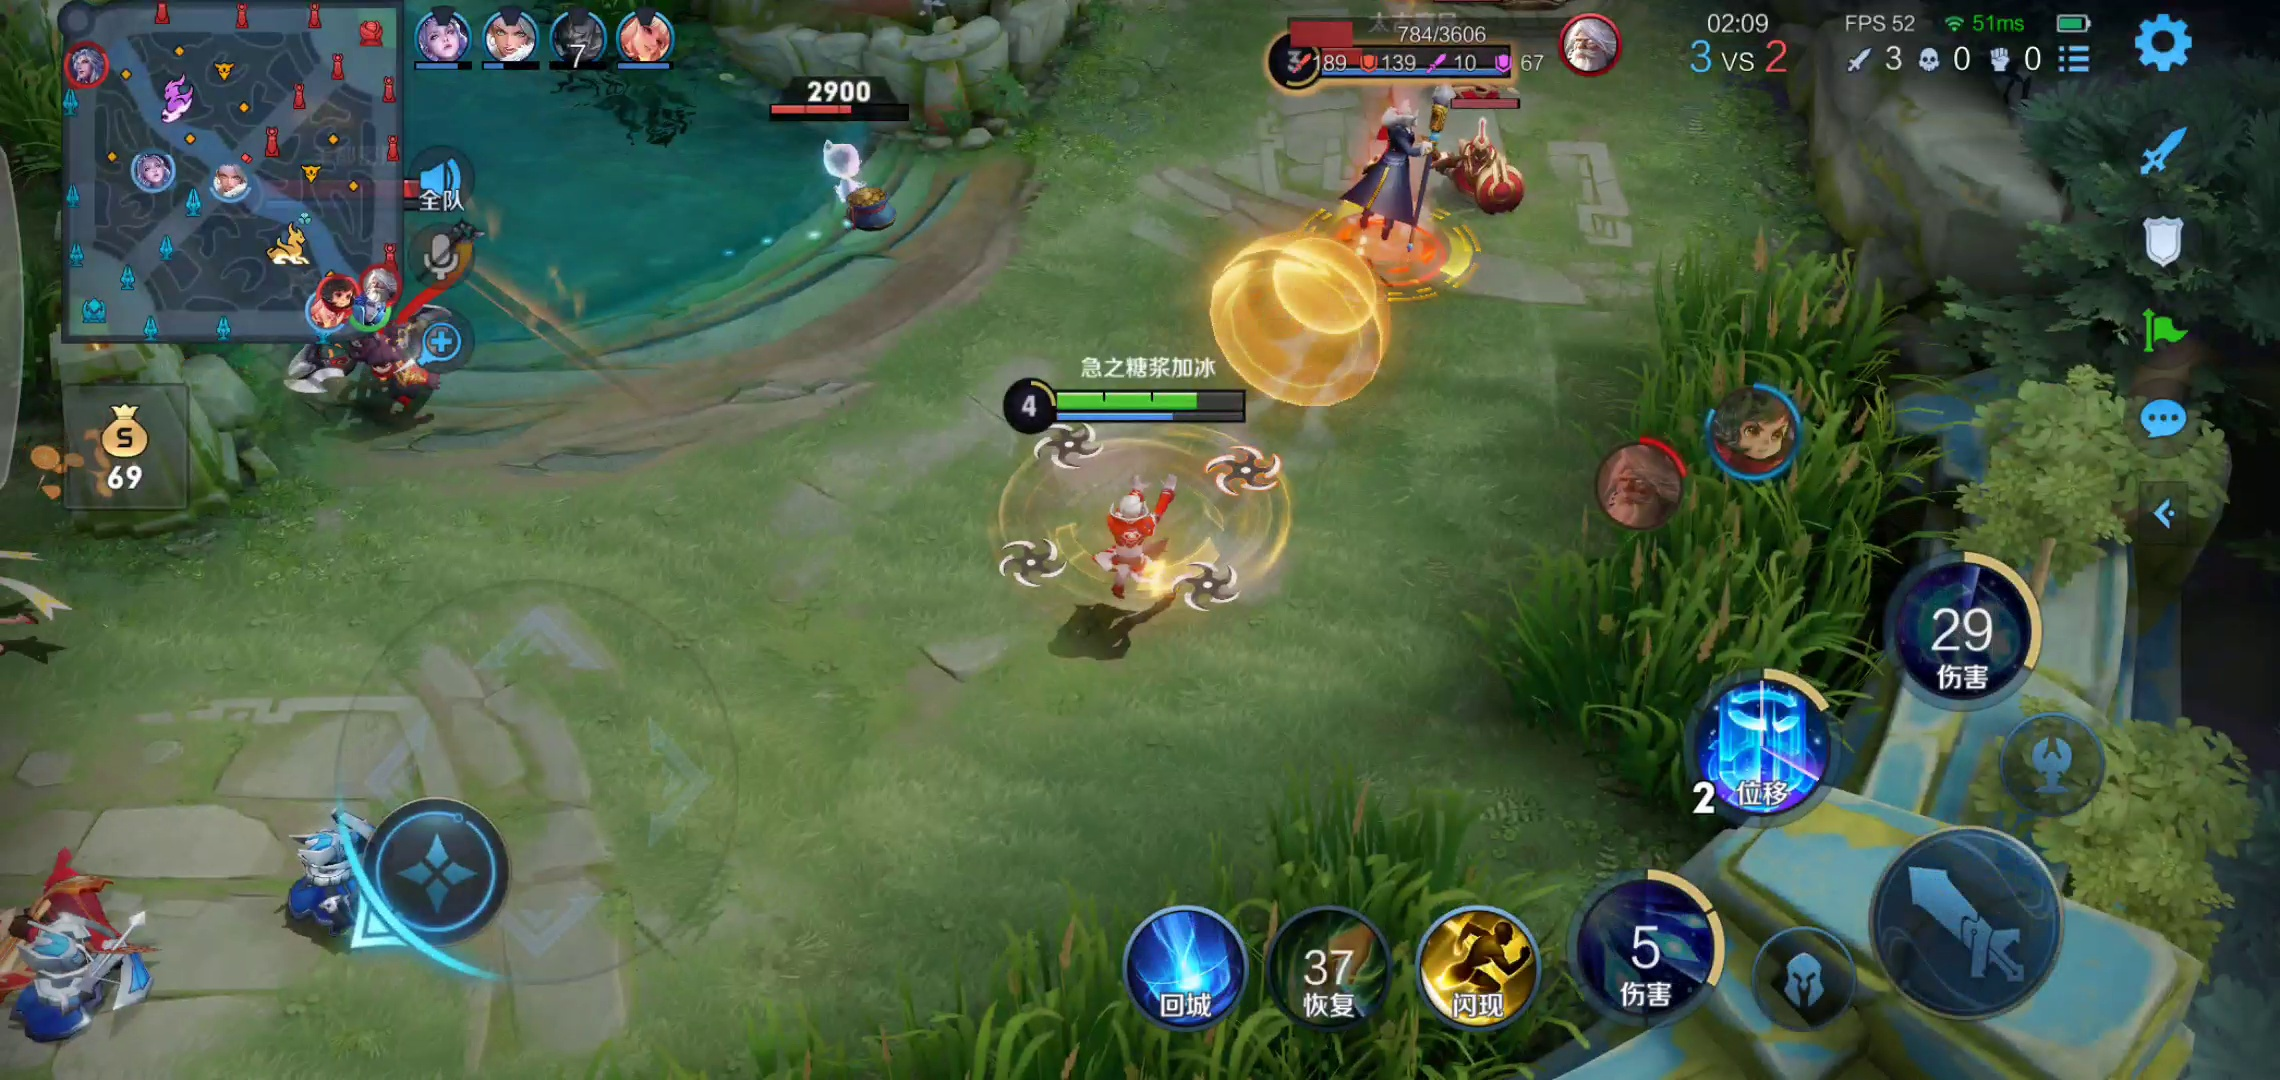grass: (1576, 251, 1889, 797), (931, 826, 1512, 1079)
hero: (1032, 484, 1240, 619), (1326, 105, 1442, 278), (297, 292, 443, 424)
soldier: (20, 930, 137, 1052), (268, 821, 388, 936), (1447, 108, 1522, 225)
